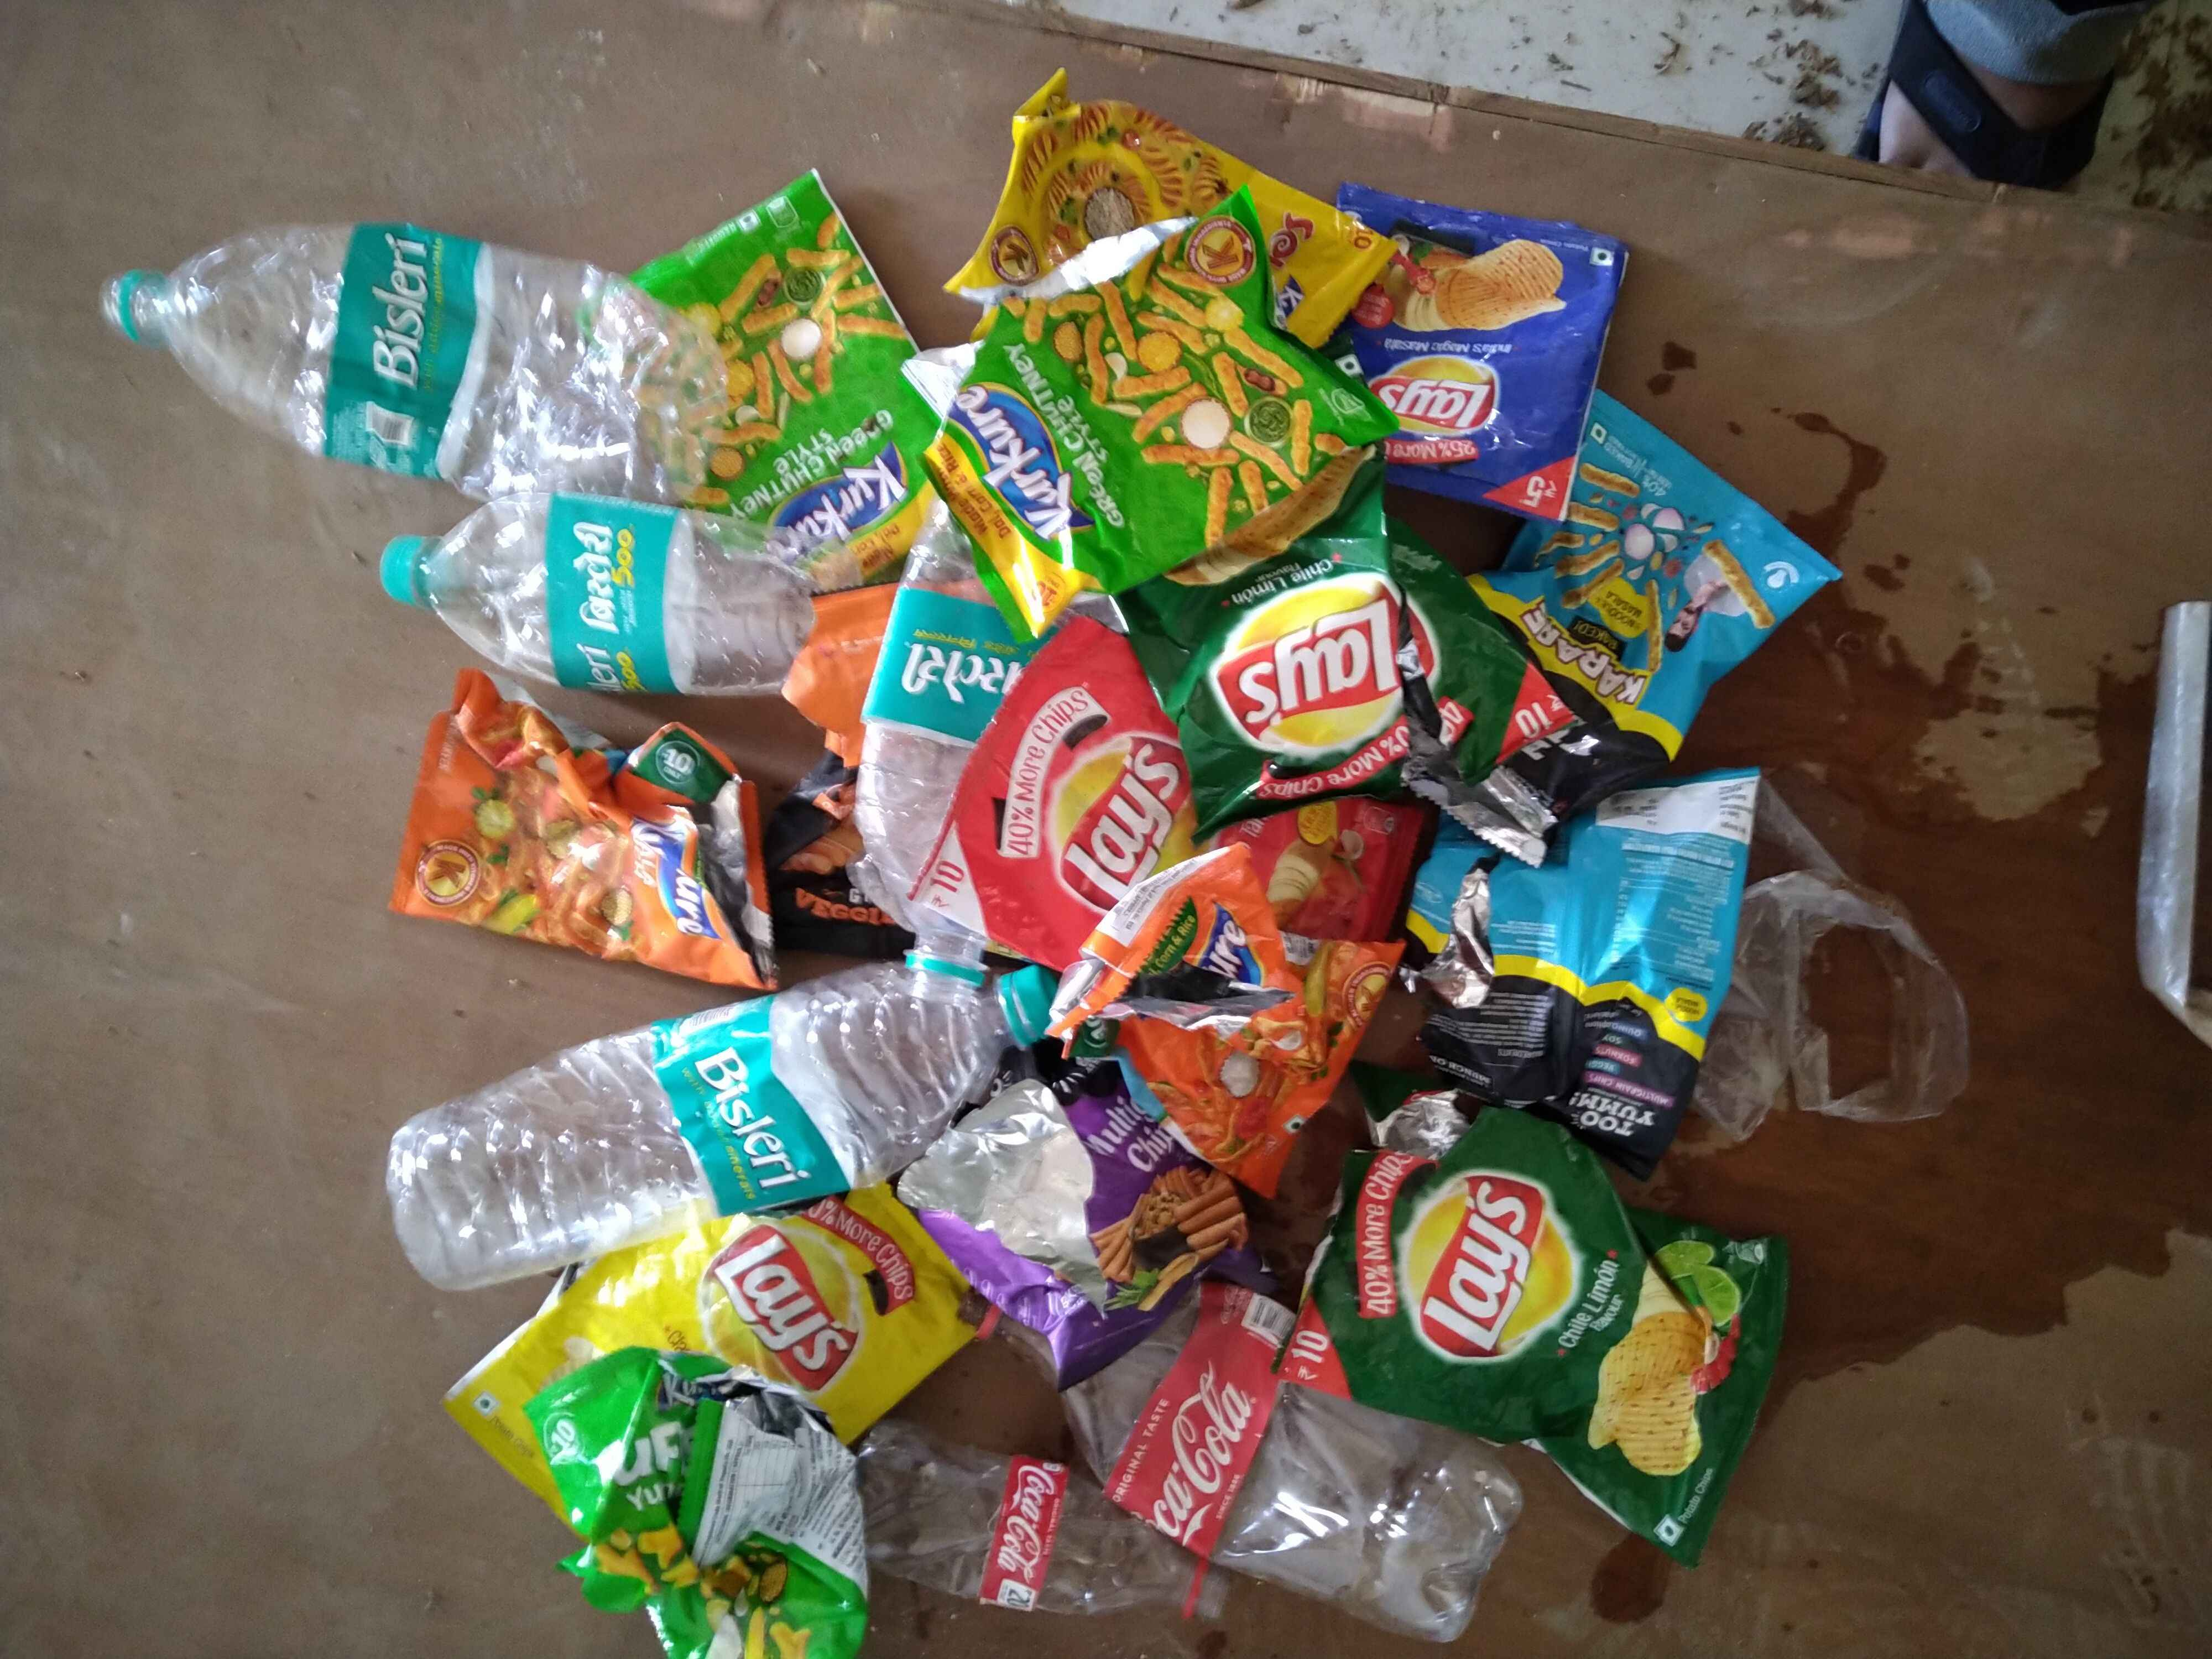Bisleri: (686, 1021, 836, 1202), (354, 232, 455, 418), (557, 521, 651, 695), (909, 601, 1033, 721)
Coca-Cola: (1141, 1333, 1264, 1537), (1007, 1457, 1049, 1584)
Lays: (1378, 1169, 1581, 1371), (698, 1213, 890, 1403), (1214, 577, 1463, 721), (1040, 727, 1190, 913), (1362, 352, 1519, 441)
kurkure: (958, 375, 1103, 554), (759, 446, 909, 565), (1191, 896, 1292, 1021), (641, 816, 714, 943), (1270, 270, 1315, 340), (651, 1371, 733, 1406)
tooyumm: (1566, 1075, 1663, 1155), (1045, 1060, 1103, 1117)
